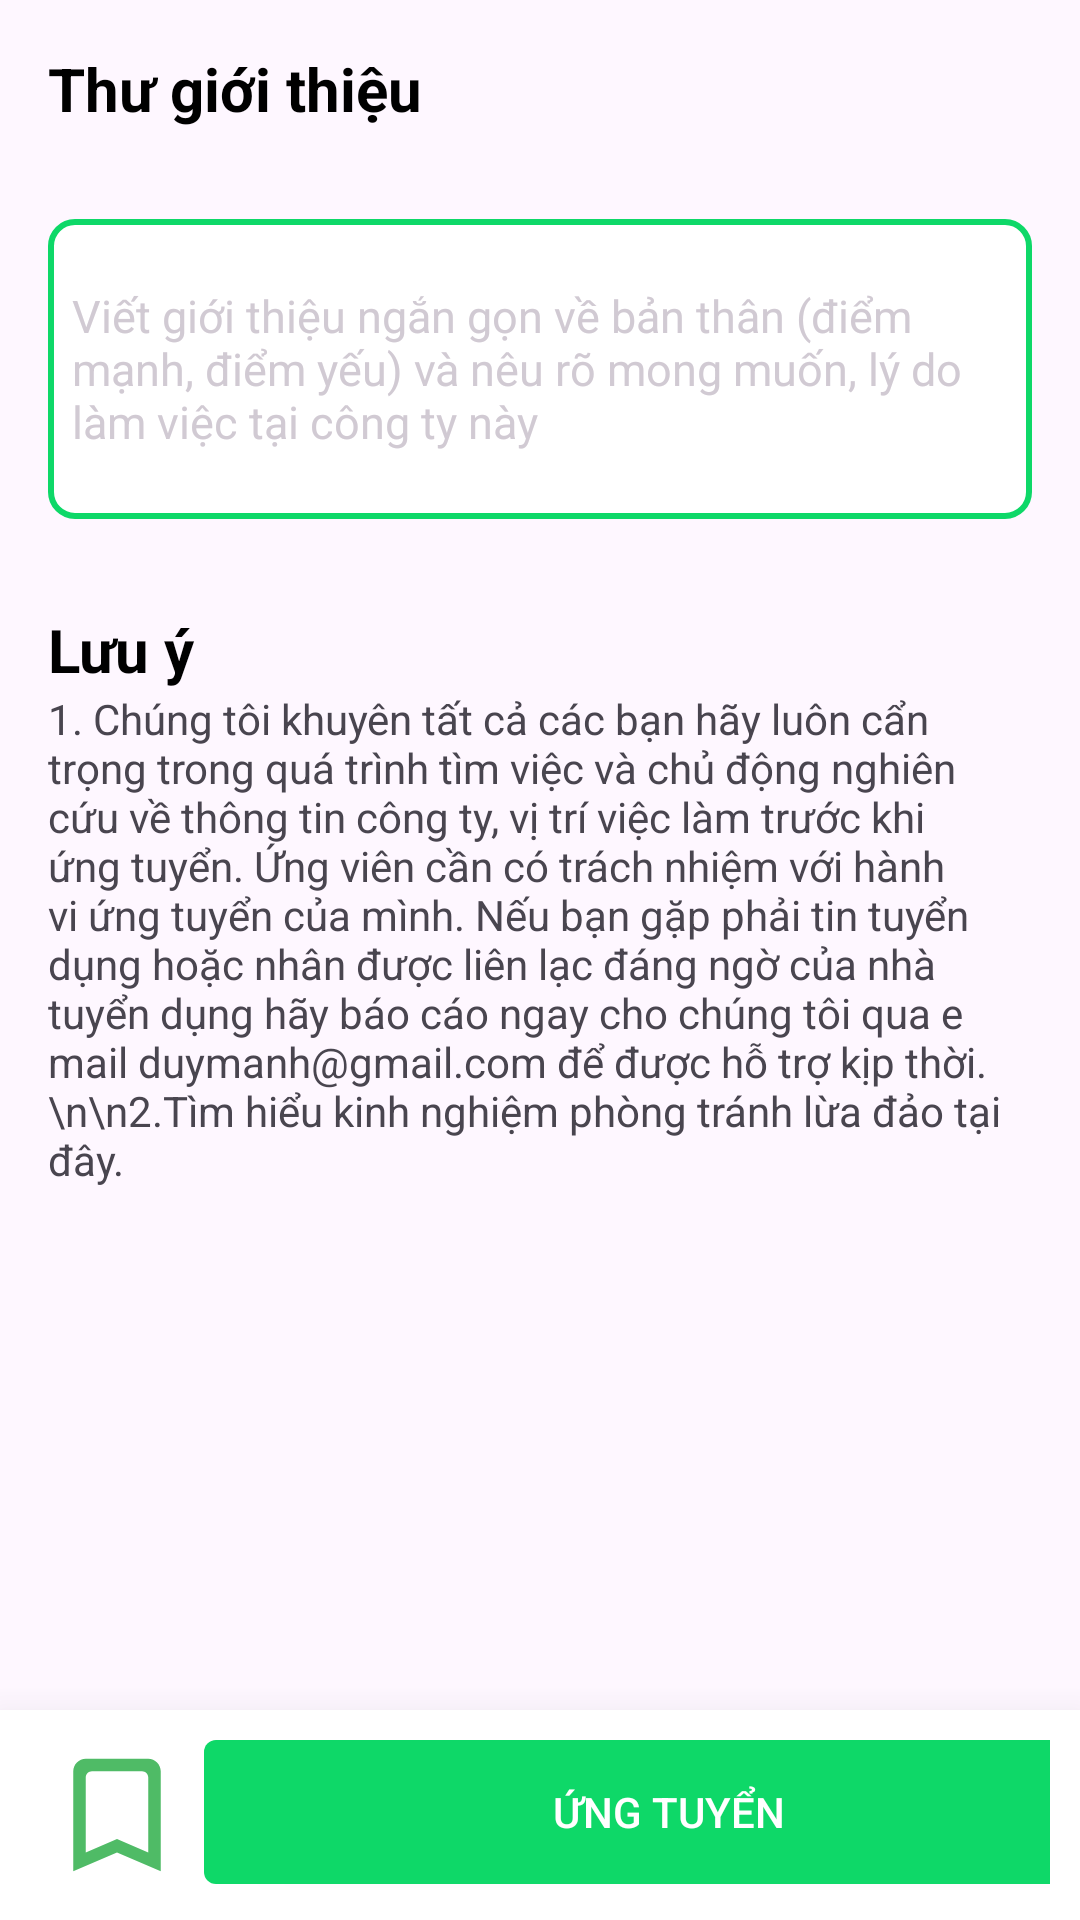

Named icons in this screenshot (1080*1920) and their centers, (x=x, y=y):
bookmark border: (x=117, y=1814)
